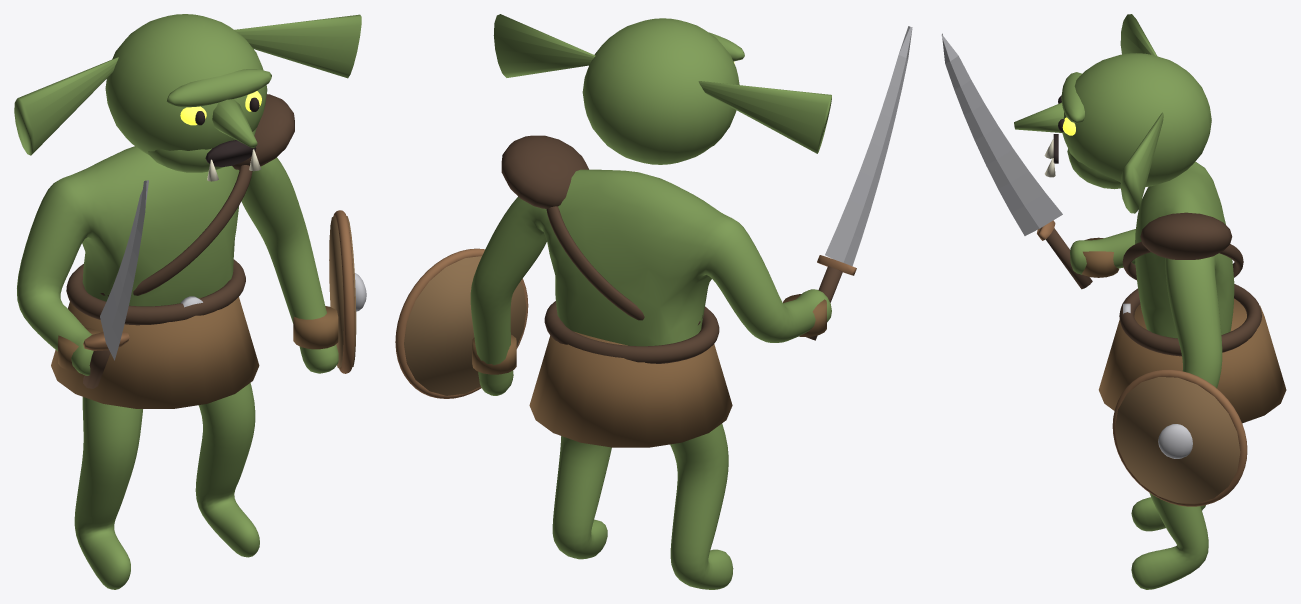
Rendered from goblin.glb.
The picture shows the model from 3 angles, left to right: view 1: azimuth 30°, elevation 25°; view 2: azimuth 150°, elevation 25°; view 3: azimuth 270°, elevation 25°; orthographic projection. The views are drawn at different scales.
Visible parts, largest first — view 1: GoblinBody, Head, Loincloth, Ear, Ear.001, Belt, Blade, Brow, Strap, Pauldron, ShieldRim, Shield (+7 smaller); view 2: GoblinBody, Head, Loincloth, Shield, Ear.001, Blade, Pauldron, Ear, Belt, ShieldRim, Strap, Wrap; view 3: GoblinBody, Head, Shield, Loincloth, Blade, Pauldron, Belt, ShieldRim, Ear, ShieldBoss, Ear.001, Nose (+5 smaller).
Part boxes in pixels (bbox=[...]): GoblinBody: bbox=[17, 146, 338, 589]; Head: bbox=[105, 14, 267, 154]; Loincloth: bbox=[51, 297, 259, 408]; Ear: bbox=[234, 14, 361, 78]; Ear.001: bbox=[14, 57, 118, 155]; Belt: bbox=[66, 259, 245, 325]; Blade: bbox=[100, 180, 148, 360]; Brow: bbox=[167, 69, 271, 107]; Strap: bbox=[100, 165, 252, 296]; Pauldron: bbox=[232, 94, 294, 169]; ShieldRim: bbox=[333, 210, 354, 373]; Shield: bbox=[329, 216, 356, 368]; GoblinBody: bbox=[470, 169, 831, 589]; Head: bbox=[582, 18, 739, 164]; Loincloth: bbox=[529, 331, 732, 447]; Shield: bbox=[404, 256, 526, 395]; Ear.001: bbox=[698, 81, 831, 153]; Blade: bbox=[825, 26, 912, 266]; Pauldron: bbox=[501, 135, 588, 208]; Ear: bbox=[493, 14, 595, 77]; Belt: bbox=[544, 301, 719, 363]; ShieldRim: bbox=[395, 248, 528, 398]; Strap: bbox=[546, 206, 702, 324]; Wrap: bbox=[472, 334, 516, 374]; GoblinBody: bbox=[1070, 161, 1234, 589]; Head: bbox=[1062, 53, 1211, 186]; Shield: bbox=[1115, 377, 1240, 503]; Loincloth: bbox=[1098, 298, 1286, 423]; Blade: bbox=[941, 33, 1062, 235]; Pauldron: bbox=[1140, 212, 1232, 259]; Belt: bbox=[1119, 284, 1261, 356]; ShieldRim: bbox=[1112, 369, 1247, 506]; Ear: bbox=[1120, 112, 1163, 213]; ShieldBoss: bbox=[1158, 424, 1192, 458]; Ear.001: bbox=[1120, 14, 1156, 55]; Nose: bbox=[1014, 102, 1063, 132].
Bounding box in the file's own units: 0.6403 × 0.8797 × 0.551.
